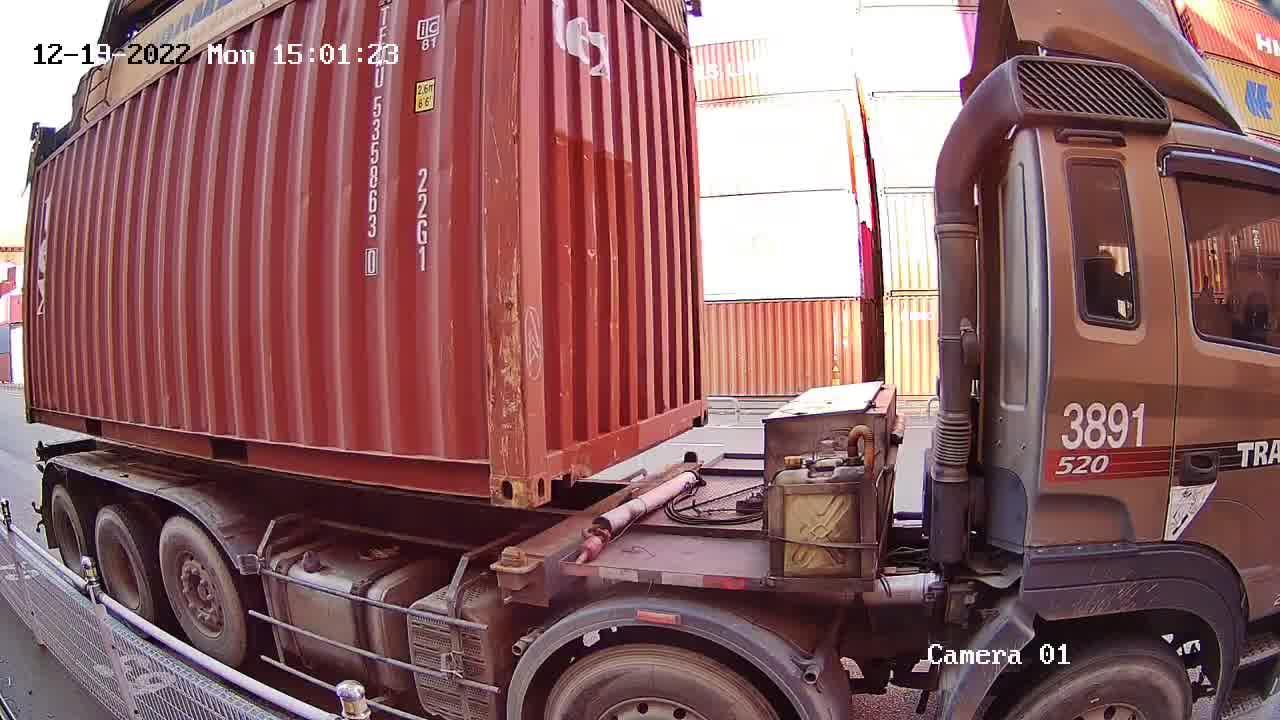Hole_L: (525, 427, 577, 509)
Hole_R: (453, 434, 528, 506), (682, 382, 709, 433)
Tire: (160, 523, 244, 664), (94, 514, 151, 616), (51, 490, 83, 571)
